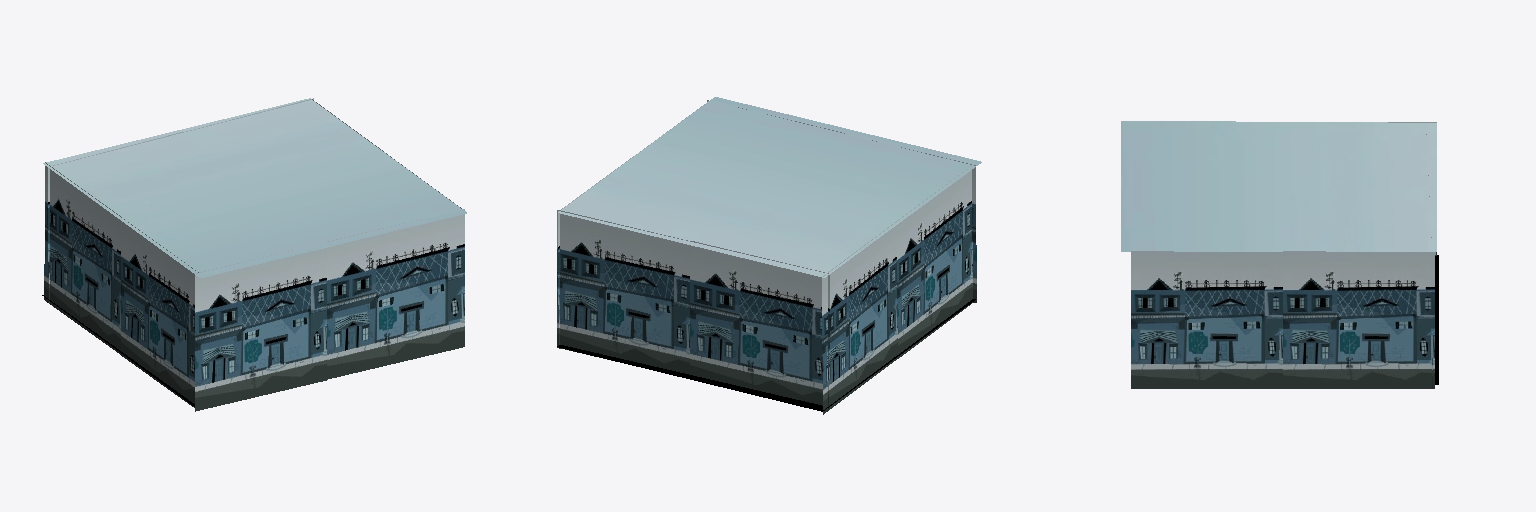
3 views of the same model, side by side, from view 1: azimuth 30°, elevation 25°; view 2: azimuth 150°, elevation 25°; view 3: azimuth 270°, elevation 25° (orthographic).
Visible parts, largest first — view 1: entorno2:pPlane8, entorno2:pPlane9, entorno2:pPlane5, entorno2:pPlane4; view 2: entorno2:pPlane8, pPlane10, entorno2:pPlane4, entorno2:pPlane5, entorno2:pPlane1, entorno2:pPlane9; view 3: entorno2:pPlane8, entorno2:pPlane3, entorno2:pPlane2.
Part boxes in pixels (left/top/right/bottom): entorno2:pPlane8: left=43, top=98, right=466, bottom=277; entorno2:pPlane9: left=195, top=209, right=464, bottom=411; entorno2:pPlane5: left=44, top=162, right=120, bottom=354; entorno2:pPlane4: left=121, top=217, right=198, bottom=407; entorno2:pPlane8: left=558, top=97, right=981, bottom=277; pPlane10: left=557, top=210, right=829, bottom=410; entorno2:pPlane4: left=897, top=166, right=972, bottom=358; entorno2:pPlane5: left=822, top=221, right=897, bottom=414; entorno2:pPlane1: left=557, top=299, right=975, bottom=411; entorno2:pPlane9: left=707, top=100, right=976, bottom=302; entorno2:pPlane8: left=1121, top=121, right=1436, bottom=251; entorno2:pPlane3: left=1131, top=251, right=1283, bottom=388; entorno2:pPlane2: left=1283, top=251, right=1435, bottom=388.
Bounding box in the file's own units: 24.57 × 12.05 × 25.09.
3 materials, 2 textured.